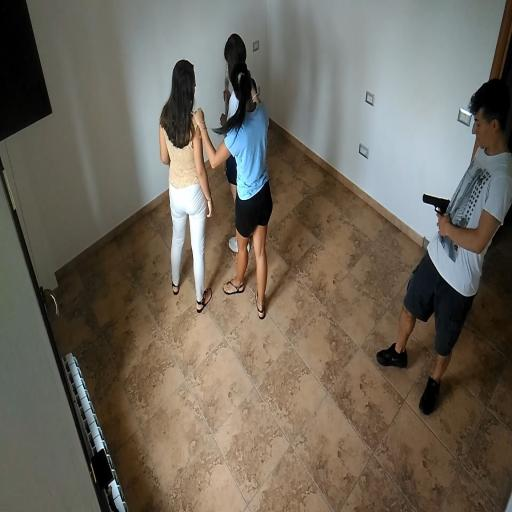nao-violencia: (146, 30, 300, 328)
violencia: (373, 71, 512, 427)
